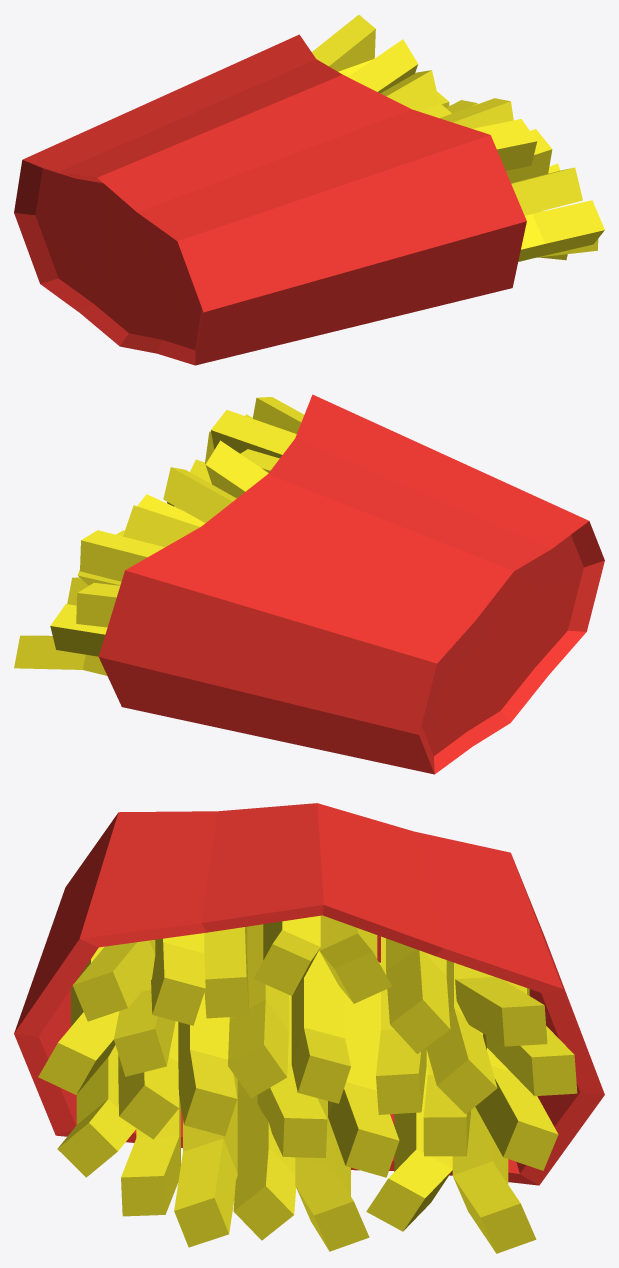
File: French_fries_01.fbx
3 views of the same model, one above another, from view 1: azimuth 30°, elevation 25°; view 2: azimuth 150°, elevation 25°; view 3: azimuth 270°, elevation 25° (orthographic). The views are drawn at different scales.
Parts seen in each view (by area): view 1: French_fries_01; view 2: French_fries_01; view 3: French_fries_01.
Boxes of the visible parts, bbox=[...] form: French_fries_01: bbox=[14, 14, 604, 365]; French_fries_01: bbox=[14, 394, 604, 774]; French_fries_01: bbox=[14, 803, 604, 1253].
Size of the model in its own units: 15.96 by 7.28 by 14.82.
